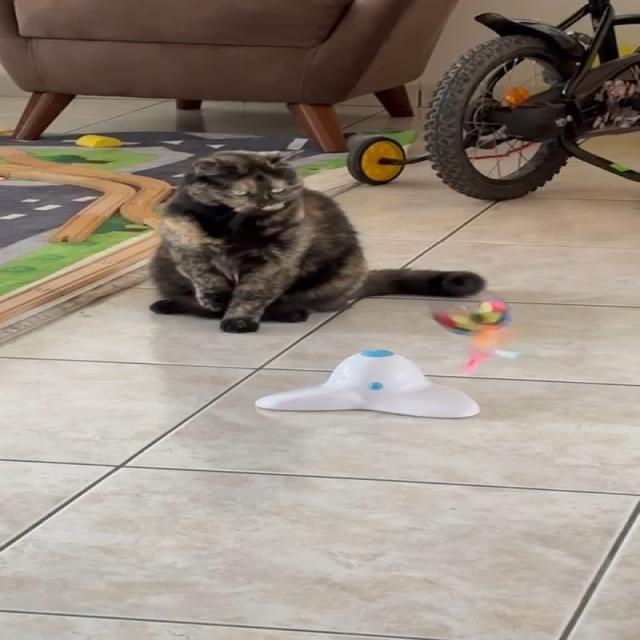authorized: (146, 148, 486, 333)
